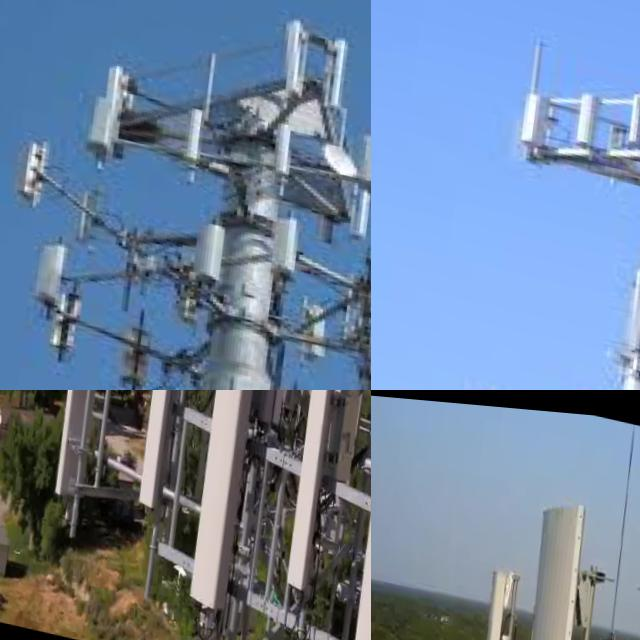GSM Antenna: (175, 390, 293, 622), (471, 474, 609, 640), (266, 390, 356, 613), (39, 390, 137, 516), (130, 390, 203, 509), (307, 14, 366, 117), (87, 53, 141, 156), (451, 565, 520, 640), (256, 0, 314, 88), (312, 390, 371, 476), (258, 194, 310, 274), (22, 231, 71, 309), (188, 212, 230, 295), (171, 102, 215, 176), (3, 126, 44, 200), (508, 78, 546, 145), (563, 85, 604, 146), (337, 332, 371, 390), (616, 76, 640, 147), (353, 244, 371, 307), (353, 120, 371, 178)
